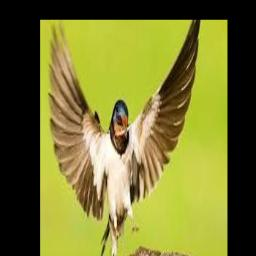Swallow: (49, 20, 201, 256)
